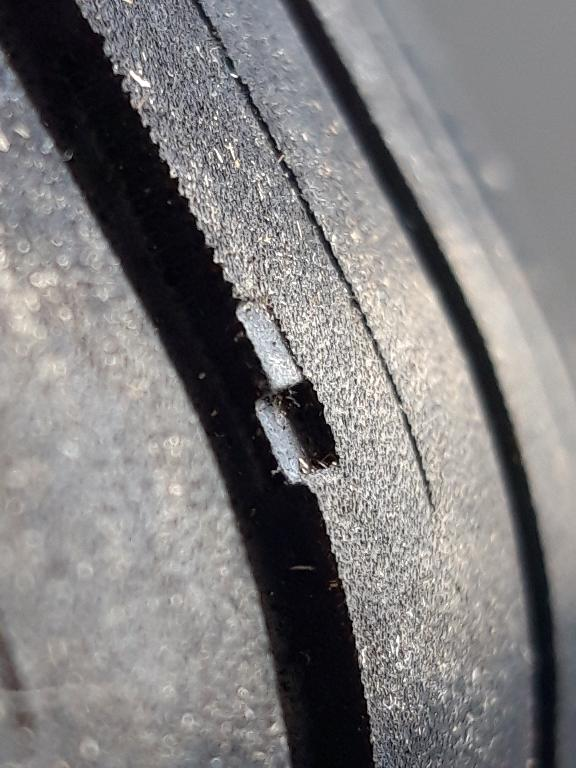temoin:25: (174, 288, 355, 501)
